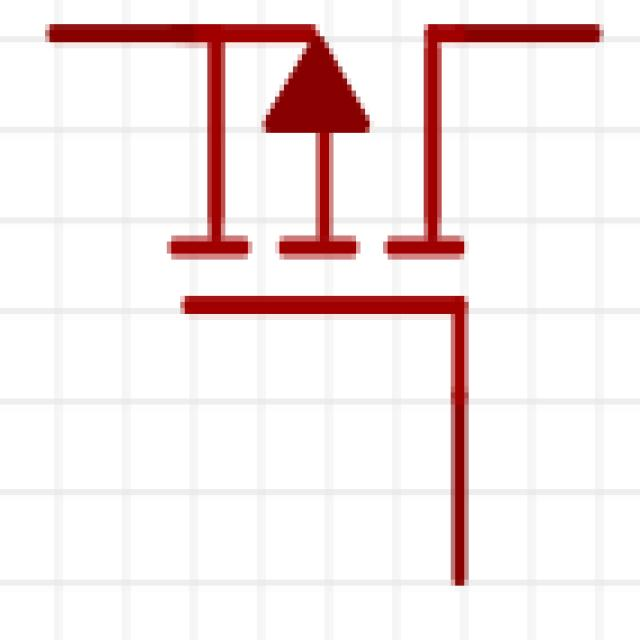pmos: (51, 14, 628, 545)
